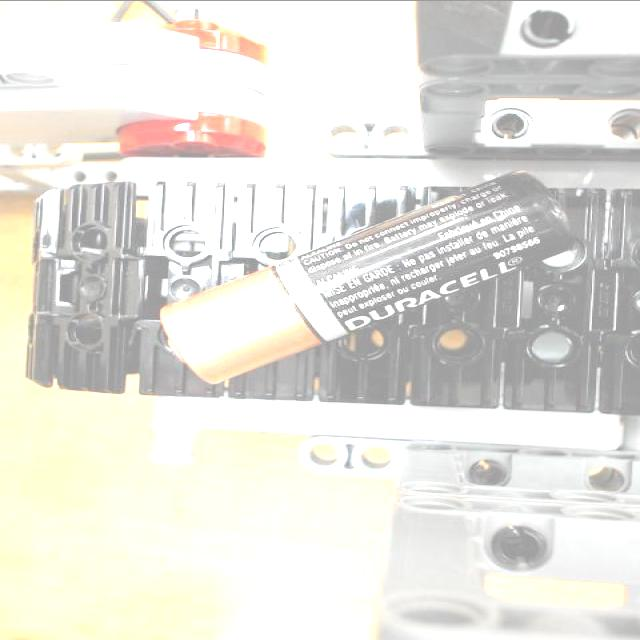AA: (158, 176, 558, 381)
